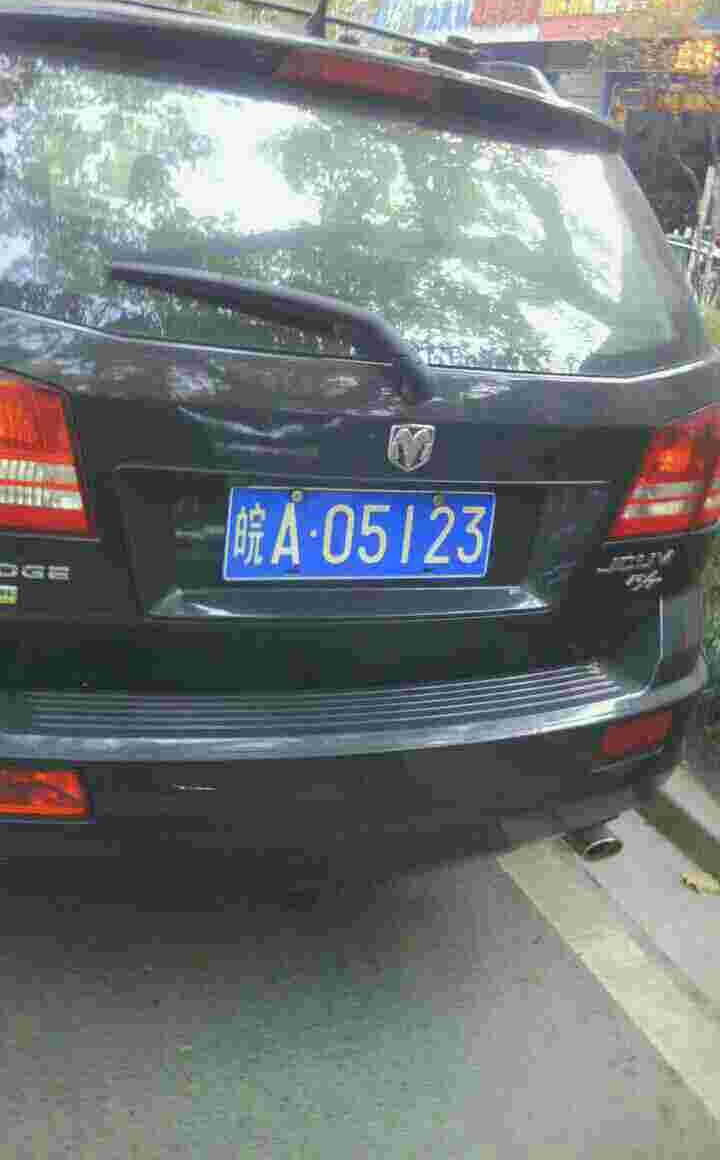plate: (230, 486, 509, 583)
